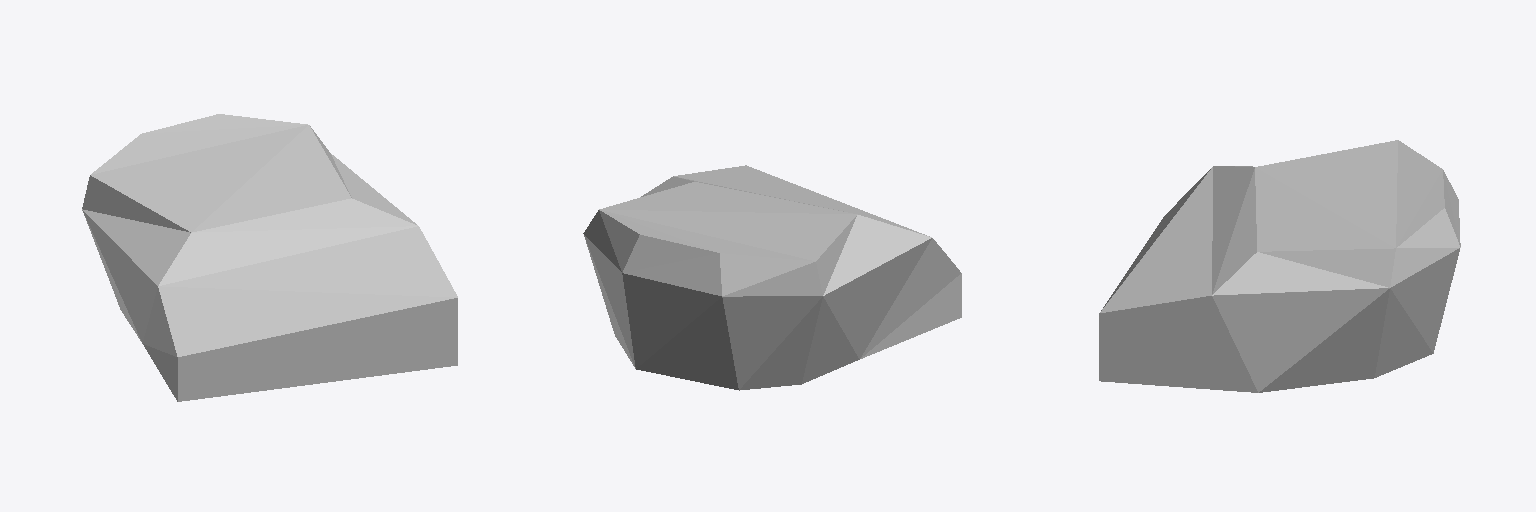
File: meditatingGuyLowerBodyCollider.obj
3 renders of one model, left to right at view 1: azimuth 30°, elevation 25°; view 2: azimuth 150°, elevation 25°; view 3: azimuth 270°, elevation 25°, orthographic.
Visible parts, largest first — view 1: MeditatingGuyLowerBodyCollider_Cube; view 2: MeditatingGuyLowerBodyCollider_Cube; view 3: MeditatingGuyLowerBodyCollider_Cube.
Part boxes in pixels (x1,y1,x2,y2): MeditatingGuyLowerBodyCollider_Cube: (82,114,457,401); MeditatingGuyLowerBodyCollider_Cube: (583,165,961,390); MeditatingGuyLowerBodyCollider_Cube: (1099,140,1460,392).
Size of the model in its own units: 0.8096 by 0.4021 by 0.9314.